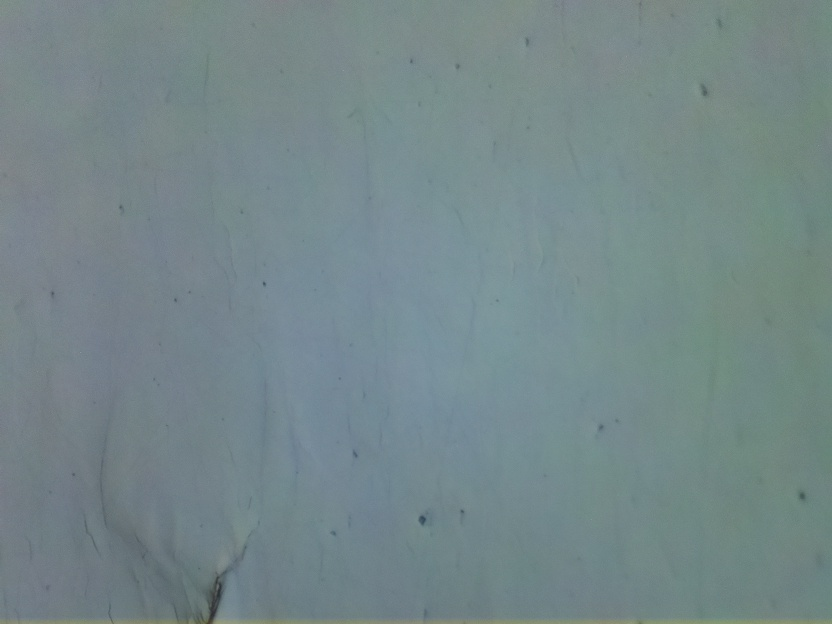crack: (206, 522, 260, 624)
